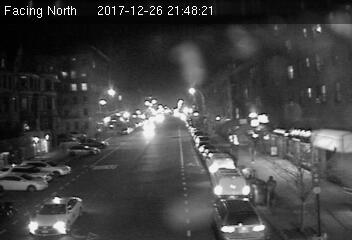car: (26, 194, 86, 236), (211, 198, 266, 240)
truck: (211, 169, 250, 197)
